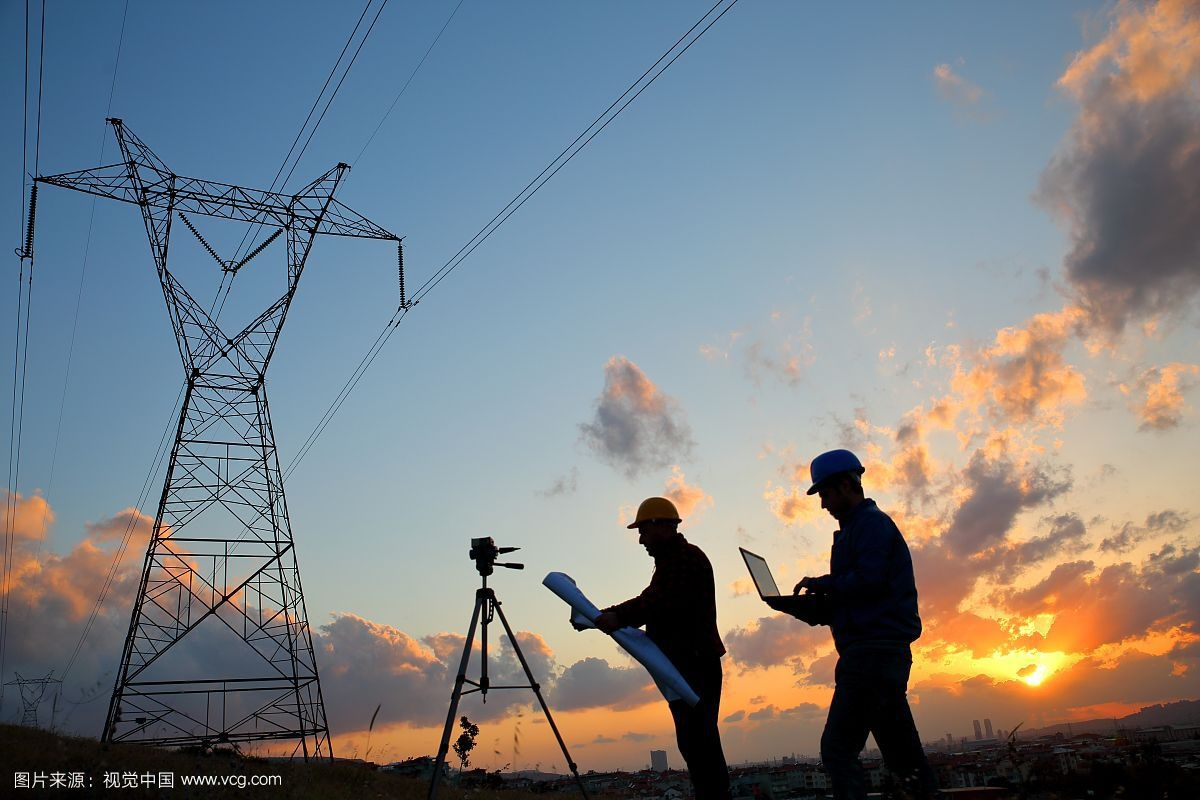blue: (807, 446, 867, 518)
yellow: (631, 496, 682, 556)
